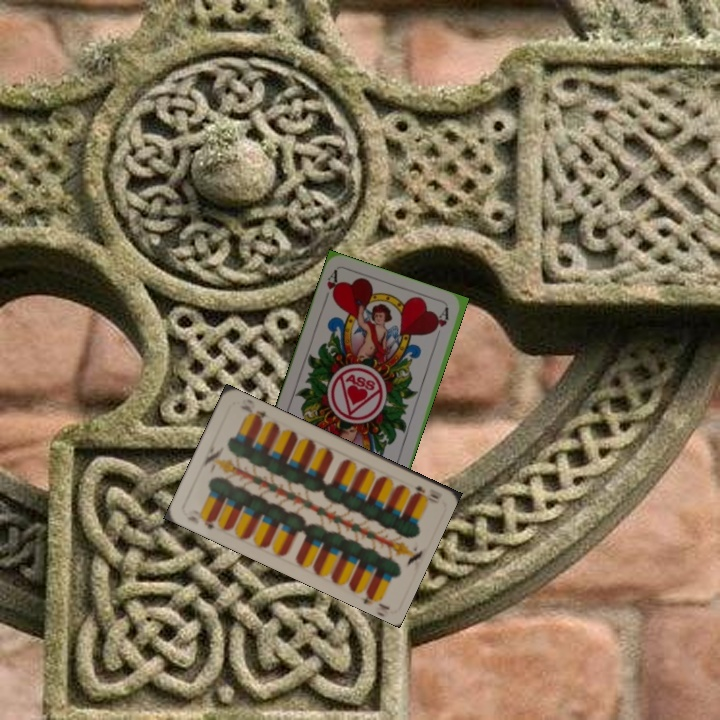E10: (410, 482, 441, 506), (194, 512, 218, 532)
HA: (320, 267, 342, 307)
